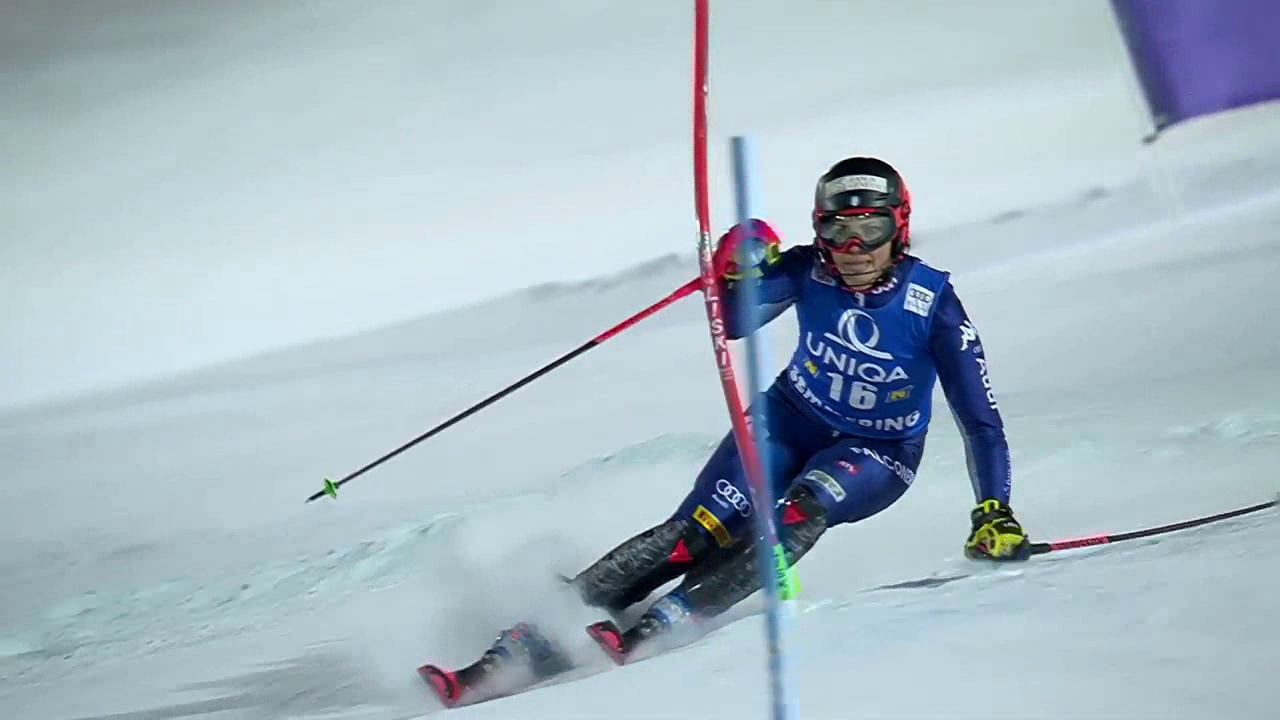uniqa: (807, 303, 908, 396)
